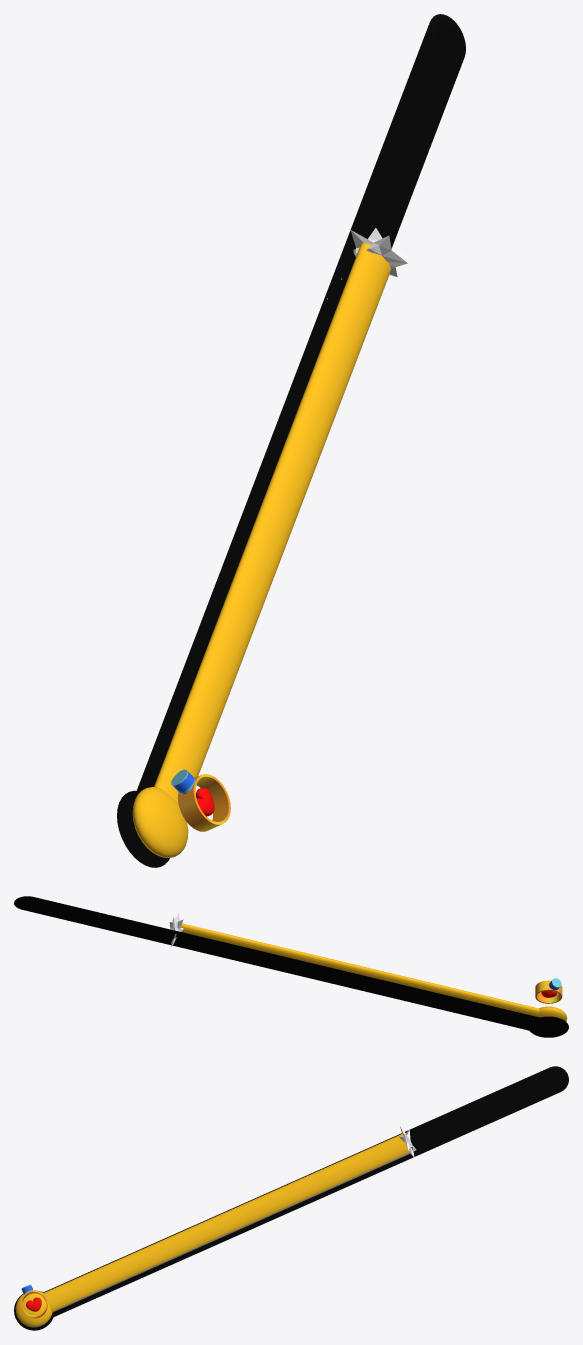
File: healthbar.obj
3 renders of one model, top to bottom at view 1: azimuth 30°, elevation 25°; view 2: azimuth 150°, elevation 25°; view 3: azimuth 330°, elevation 25°, orthographic. The views are drawn at different scales.
Parts seen in each view (by area): view 1: bar, bg, bar_head, heart_bottle; view 2: bg, bar, heart_bottle, bar_head, Icosphere; view 3: bar, bg, bar_head.
Part boxes in pixels (x1,y1,x2,y2): bar: [154, 243, 390, 803]; bg: [117, 14, 465, 867]; bar_head: [132, 787, 188, 857]; heart_bottle: [178, 774, 230, 831]; bg: [14, 896, 568, 1037]; bar: [181, 923, 539, 1016]; heart_bottle: [535, 980, 562, 1003]; bar_head: [537, 1006, 567, 1021]; Icosphere: [169, 912, 183, 946]; bar: [43, 1134, 411, 1312]; bg: [14, 1066, 568, 1330]; bar_head: [15, 1291, 52, 1327].
Size of the model in its own units: 0.1822 by 0.0974 by 0.1837.
Materials: 1 (1 with a texture image).
